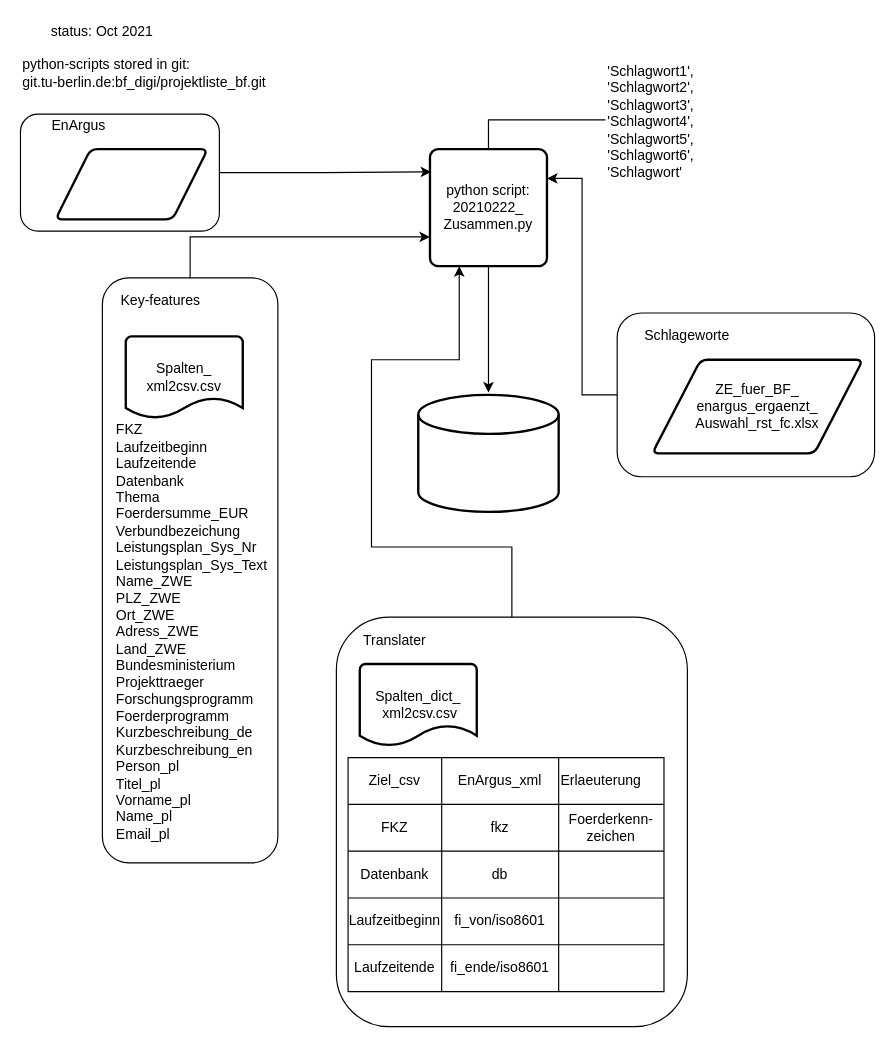
Image size: 895x1047. Some labels were removed from this diagram. Here are the shapes that lost their labels. From the top down, the centre of each, then its label:
(131,183): 210204_ enargusdata_ last.xml
(488,452): csv-db
